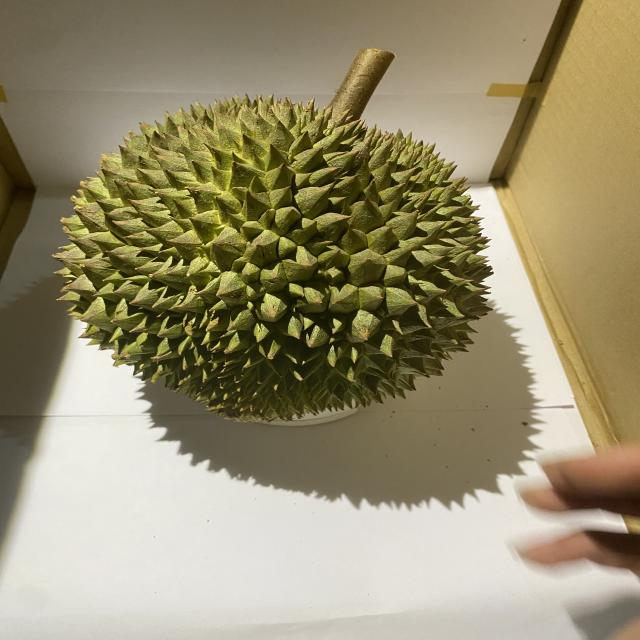immature: (50, 89, 501, 423)
